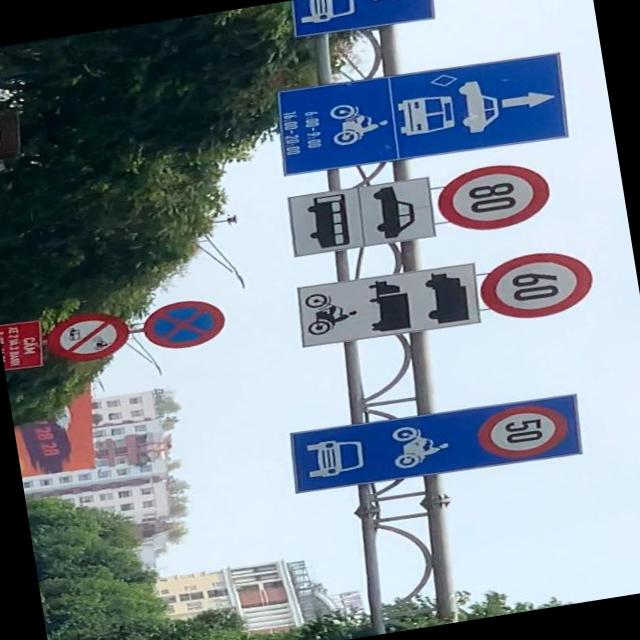P-104: (44, 311, 130, 362)
P-127: (433, 156, 554, 238), (476, 248, 594, 326)
P-130: (140, 296, 228, 352)
